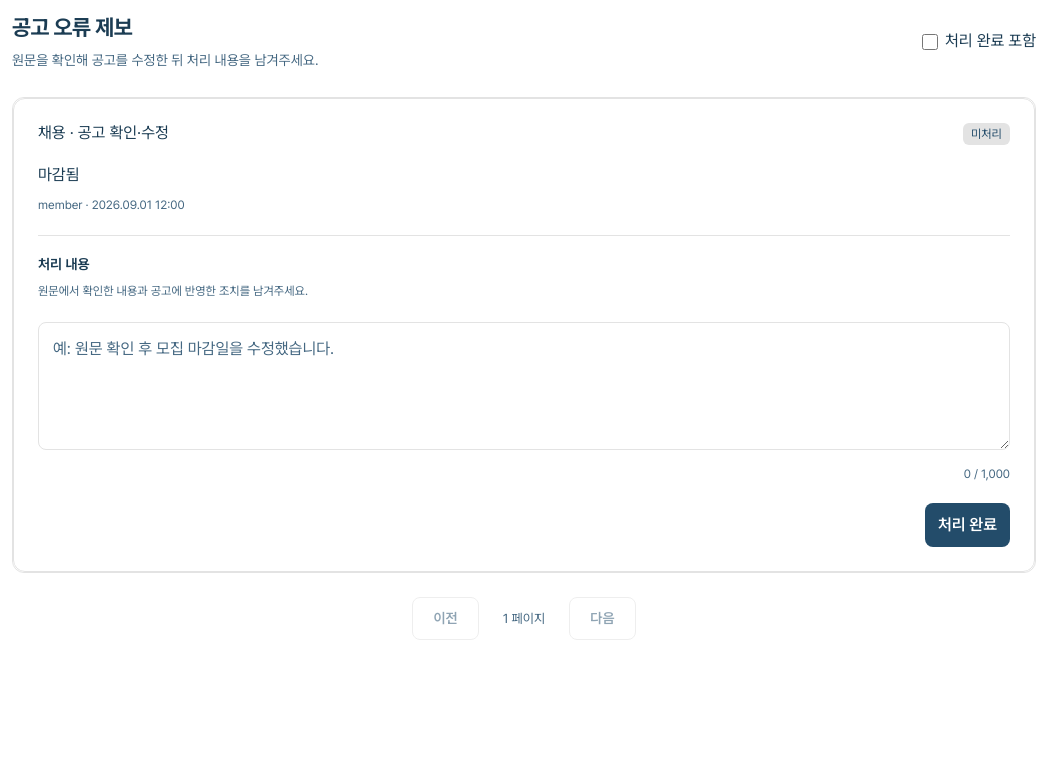
미처리 제보를 보고 처리 내용을 저장한 뒤 목록을 갱신한다
The image size is (1048, 780).
Type "원문 확인 후 마감 처리" into the text box named "제보 처리 내용".
click(524, 386); type("원문 확인 후 마감 처리")  # box x1=38 y1=322 x2=1010 y2=450
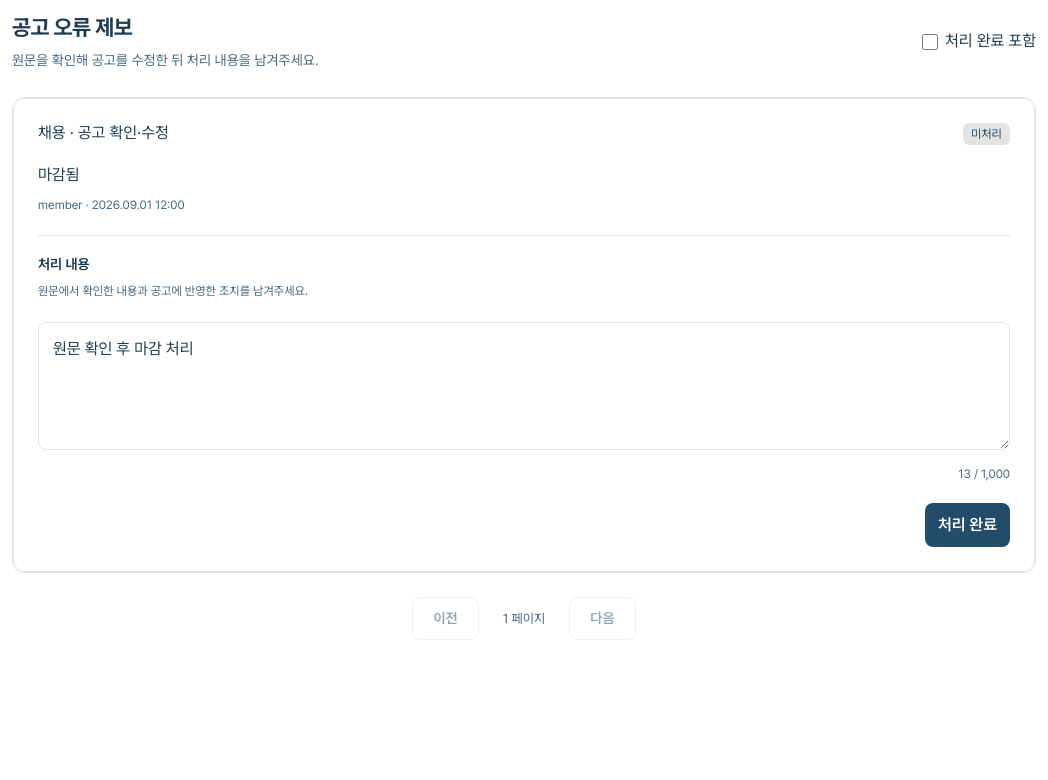
Submit the form, box x1=38 y1=235 x2=1010 y2=547
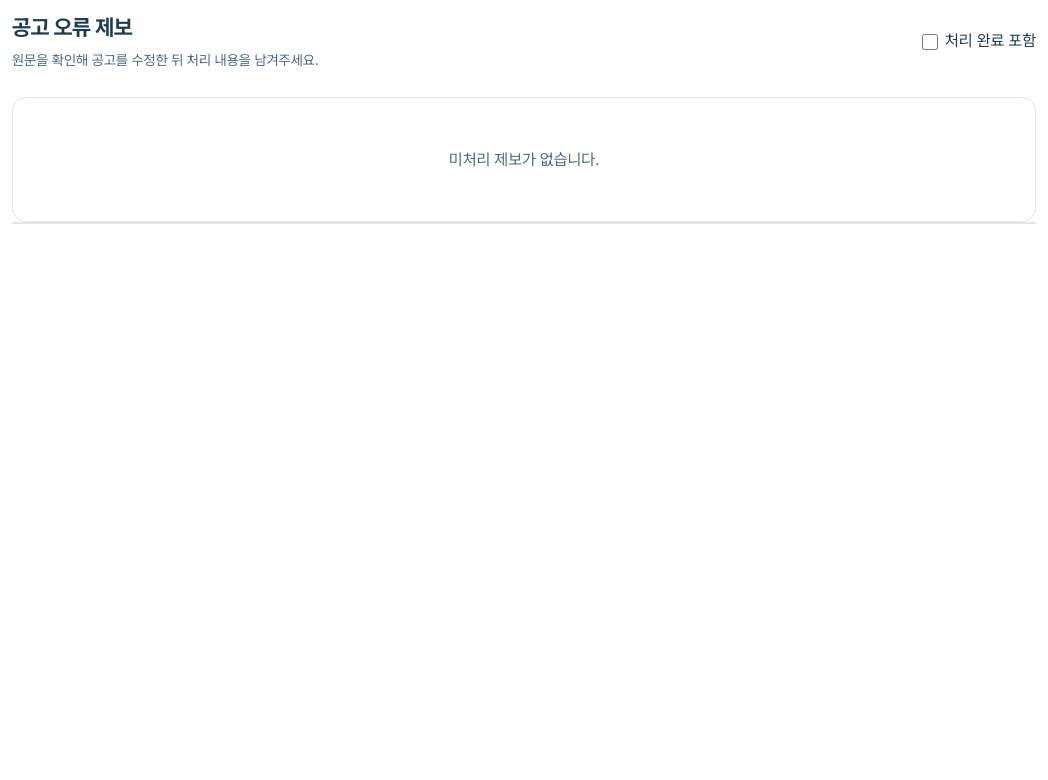
Check: the text "미처리 제보가 없습니다" is shown, box x1=449 y1=150 x2=599 y2=169
